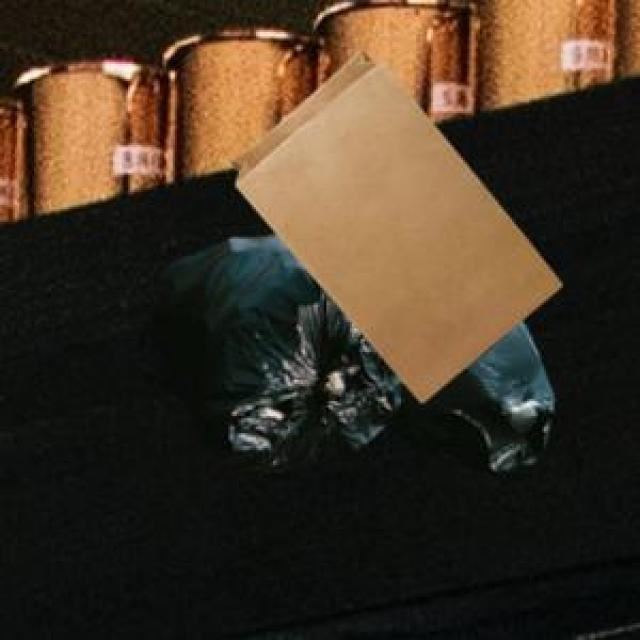miscellaneous trash: (152, 230, 550, 469)
paper: (226, 45, 557, 399)
